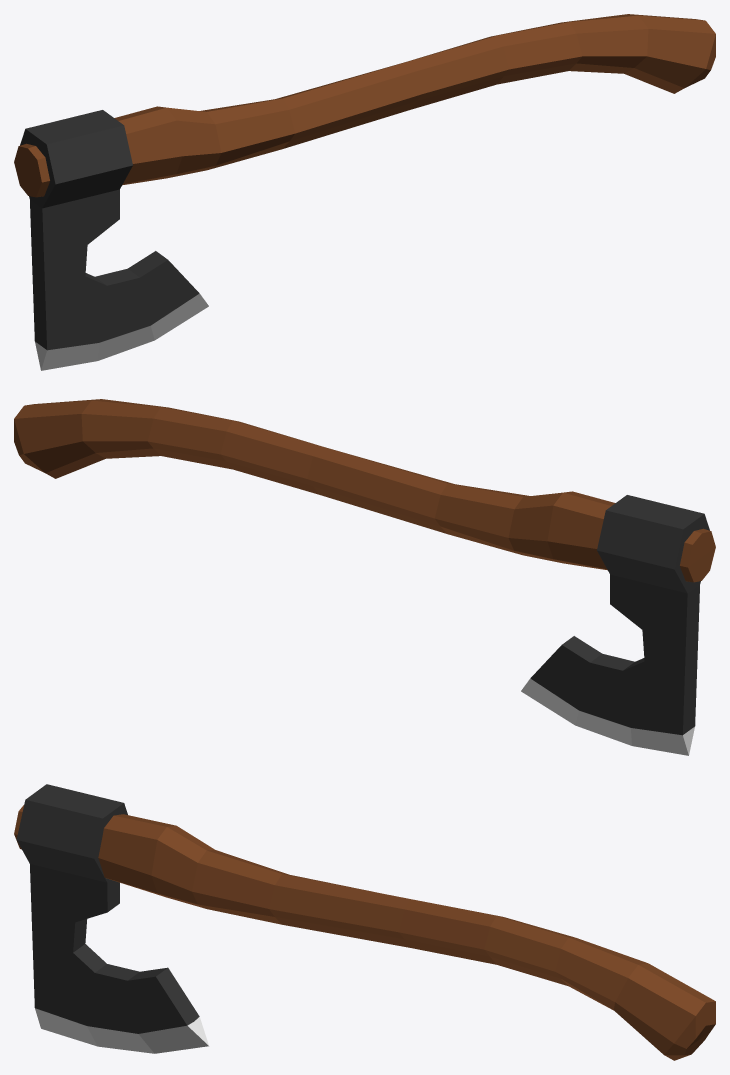
Rendered from axe.fbx.
The picture shows the model from 3 angles, top to bottom: view 1: azimuth 30°, elevation 25°; view 2: azimuth 150°, elevation 25°; view 3: azimuth 330°, elevation 25°; orthographic projection.
Parts seen in each view (by area): view 1: Axe.001; view 2: Axe.001; view 3: Axe.001.
Part boxes in pixels (x1,y1,x2,y2): Axe.001: [14, 14, 715, 370]; Axe.001: [14, 399, 715, 755]; Axe.001: [14, 784, 715, 1060].
Size of the model in its own units: 344 by 116 by 34.24.
